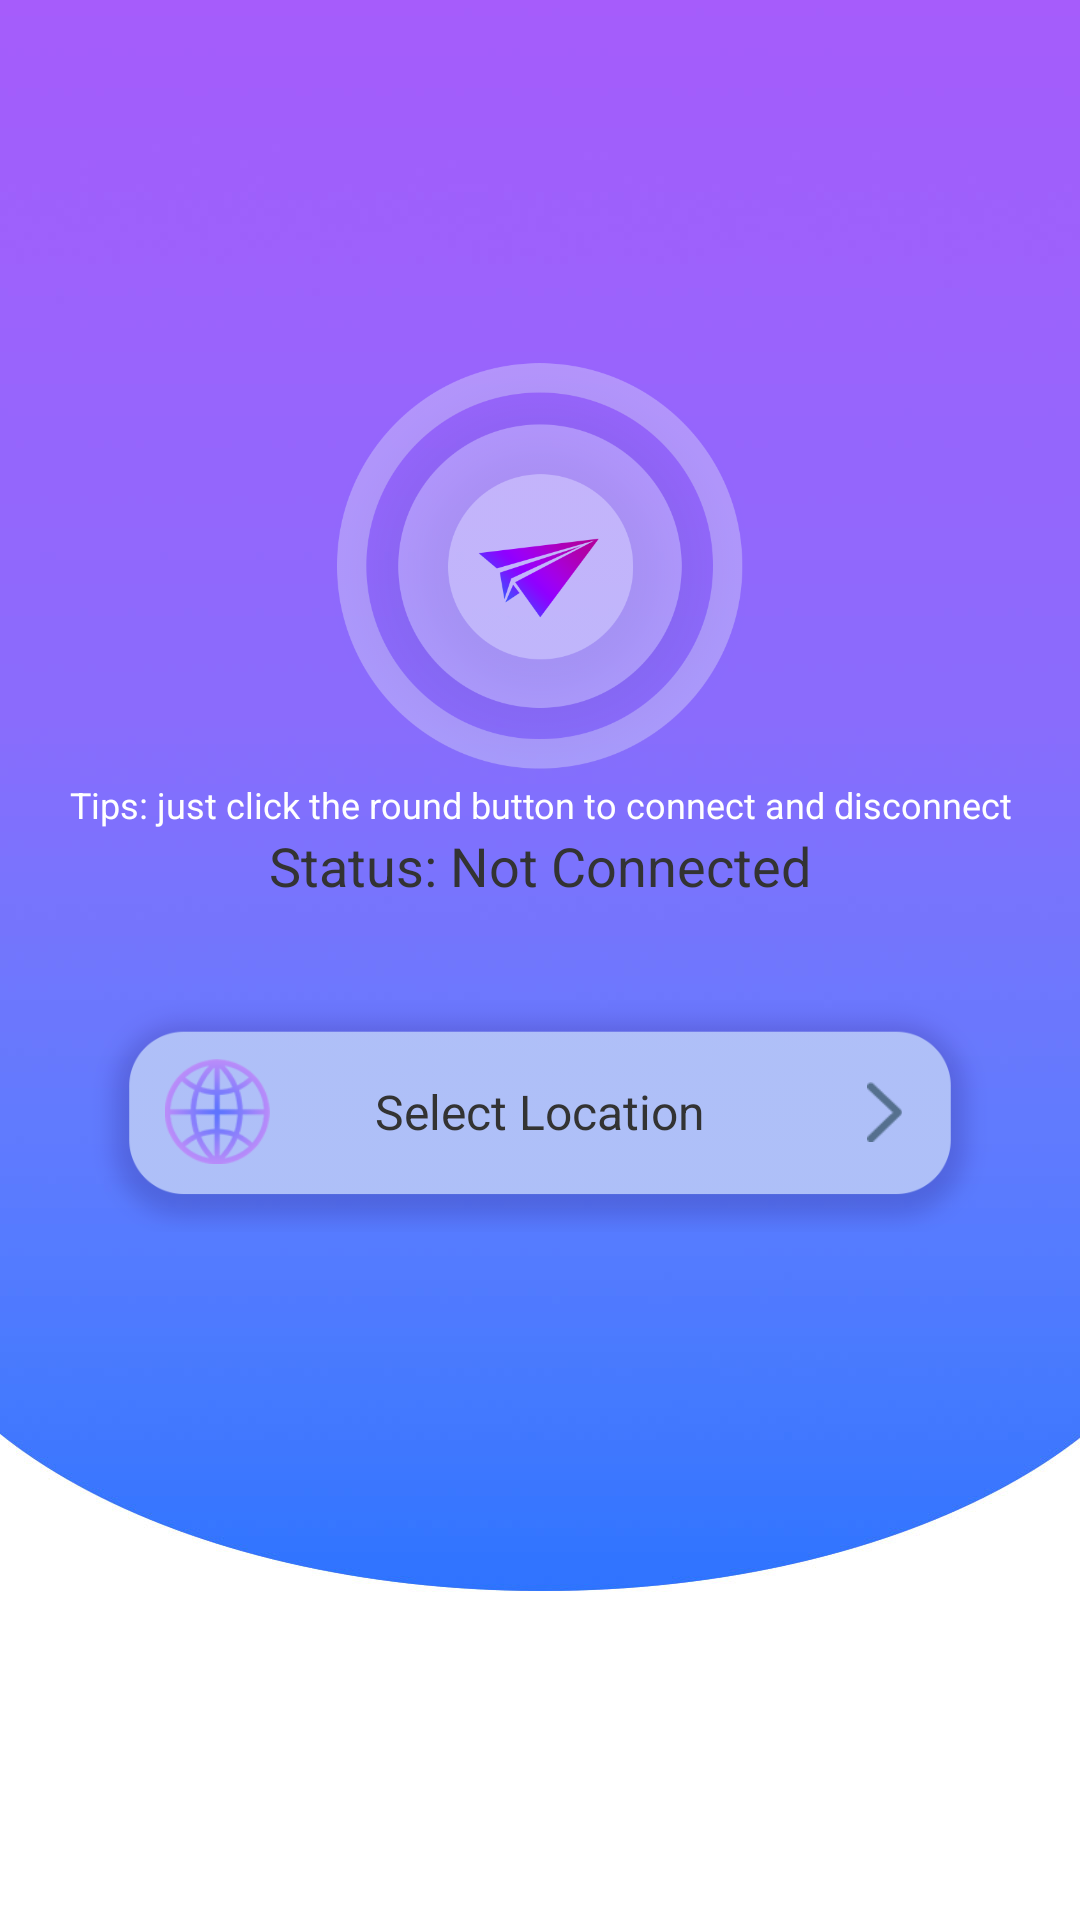

Locate icon controls on the screen. Image size 1080×1920, boxes as region(x1, y1, x2, y2).
arrow right: region(867, 1082, 902, 1142)
global: region(165, 1059, 270, 1164)
